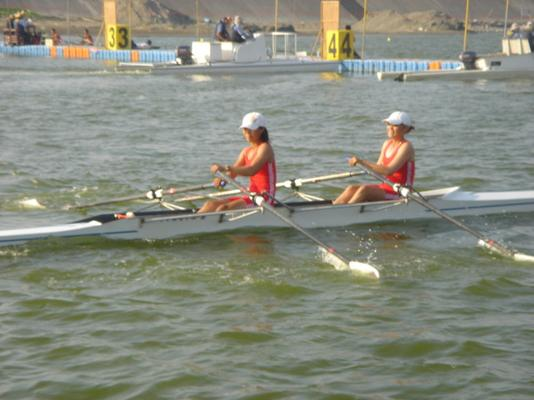person: (197, 111, 279, 214)
